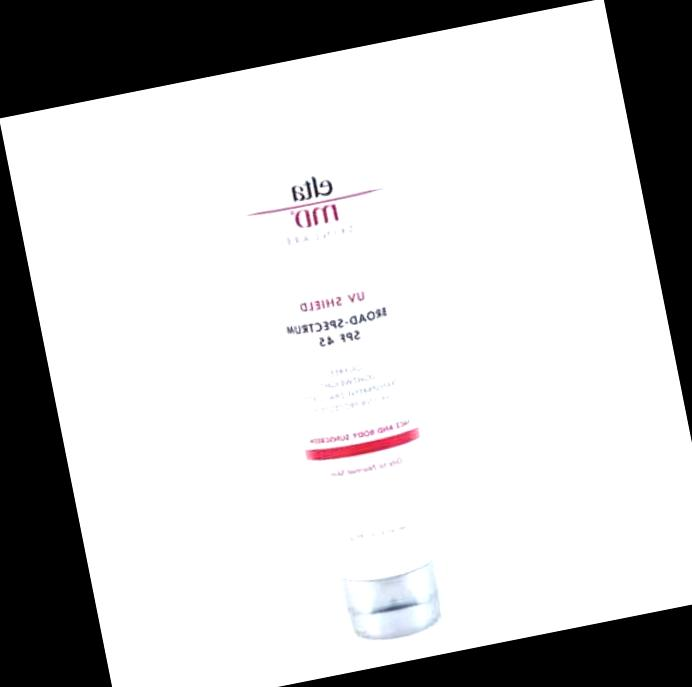cosmetic: (204, 78, 486, 656)
